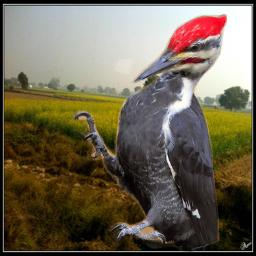Woodpecker: (72, 14, 227, 252)
